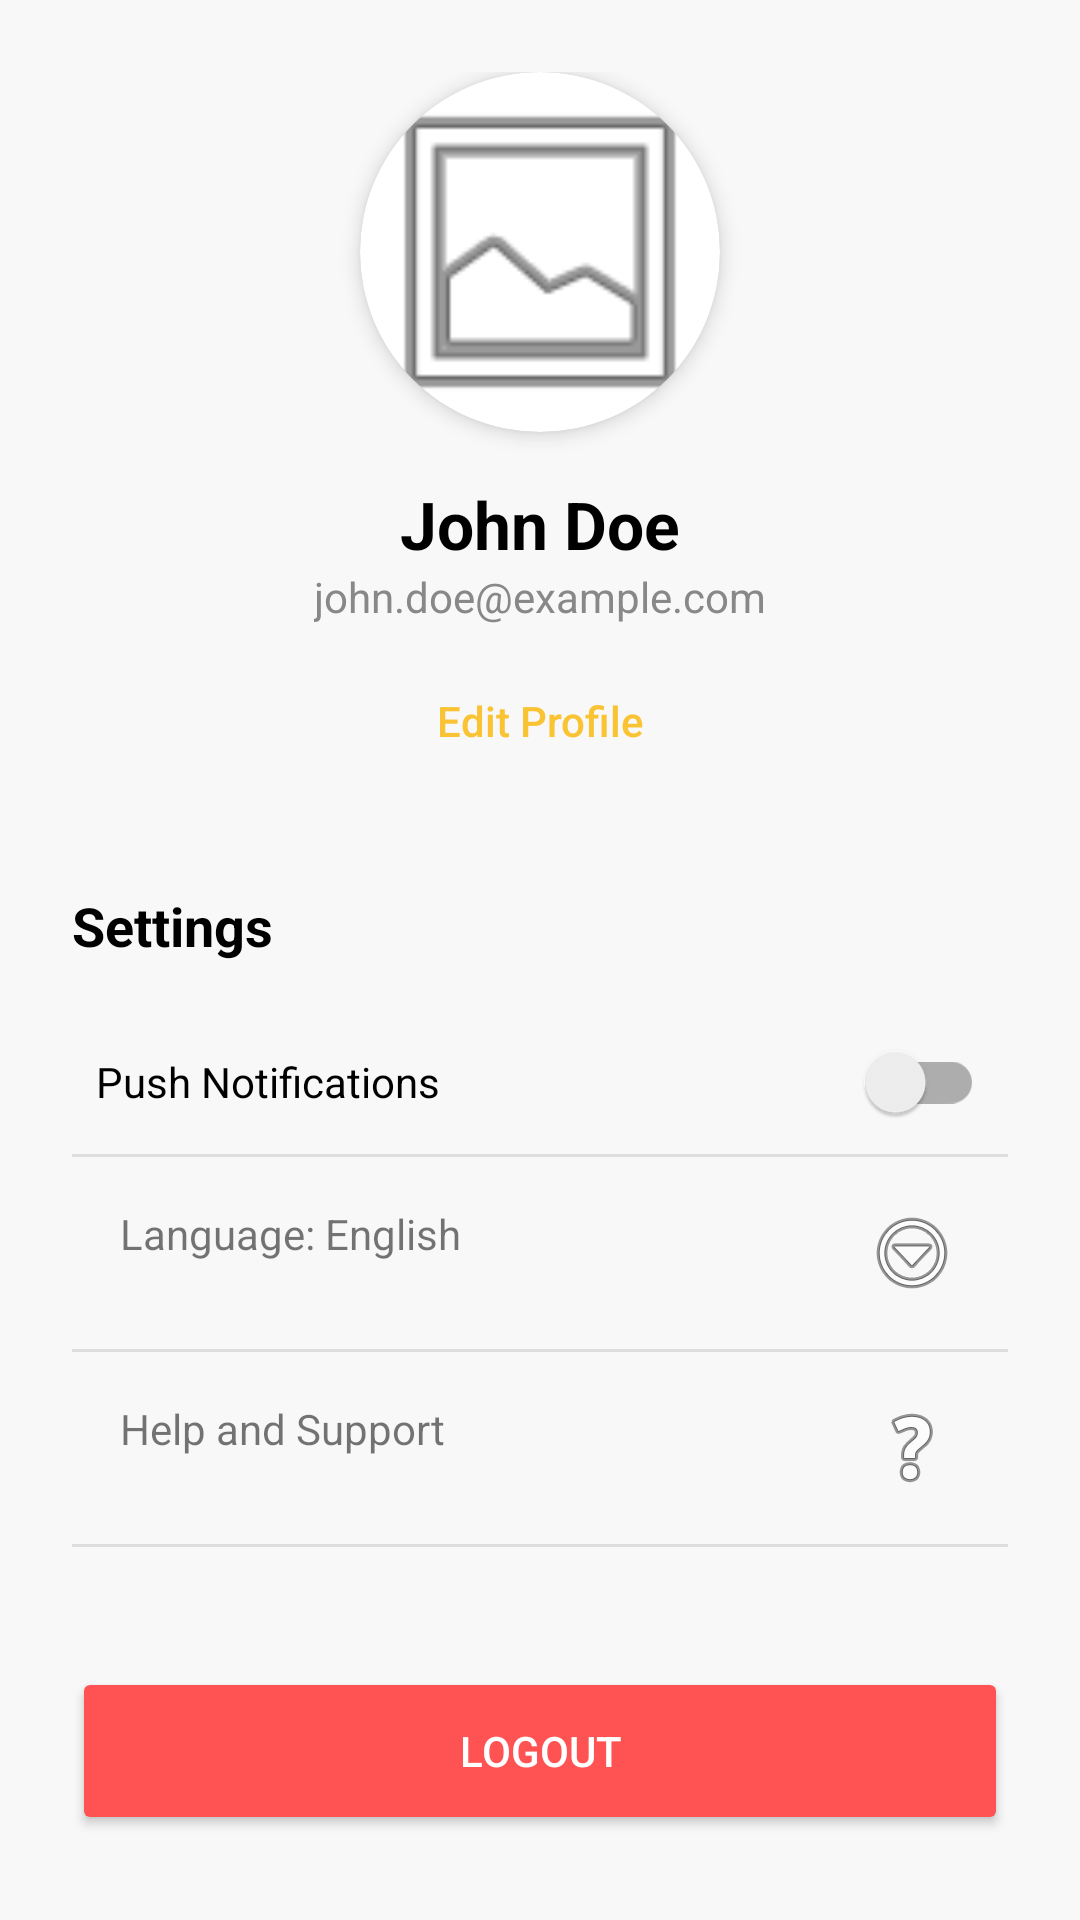

Named icons in this screenshot (1080px×1920px) and their bounding boxes, (x1, y1, x2, y2):
gallery: (361, 116, 719, 432)
